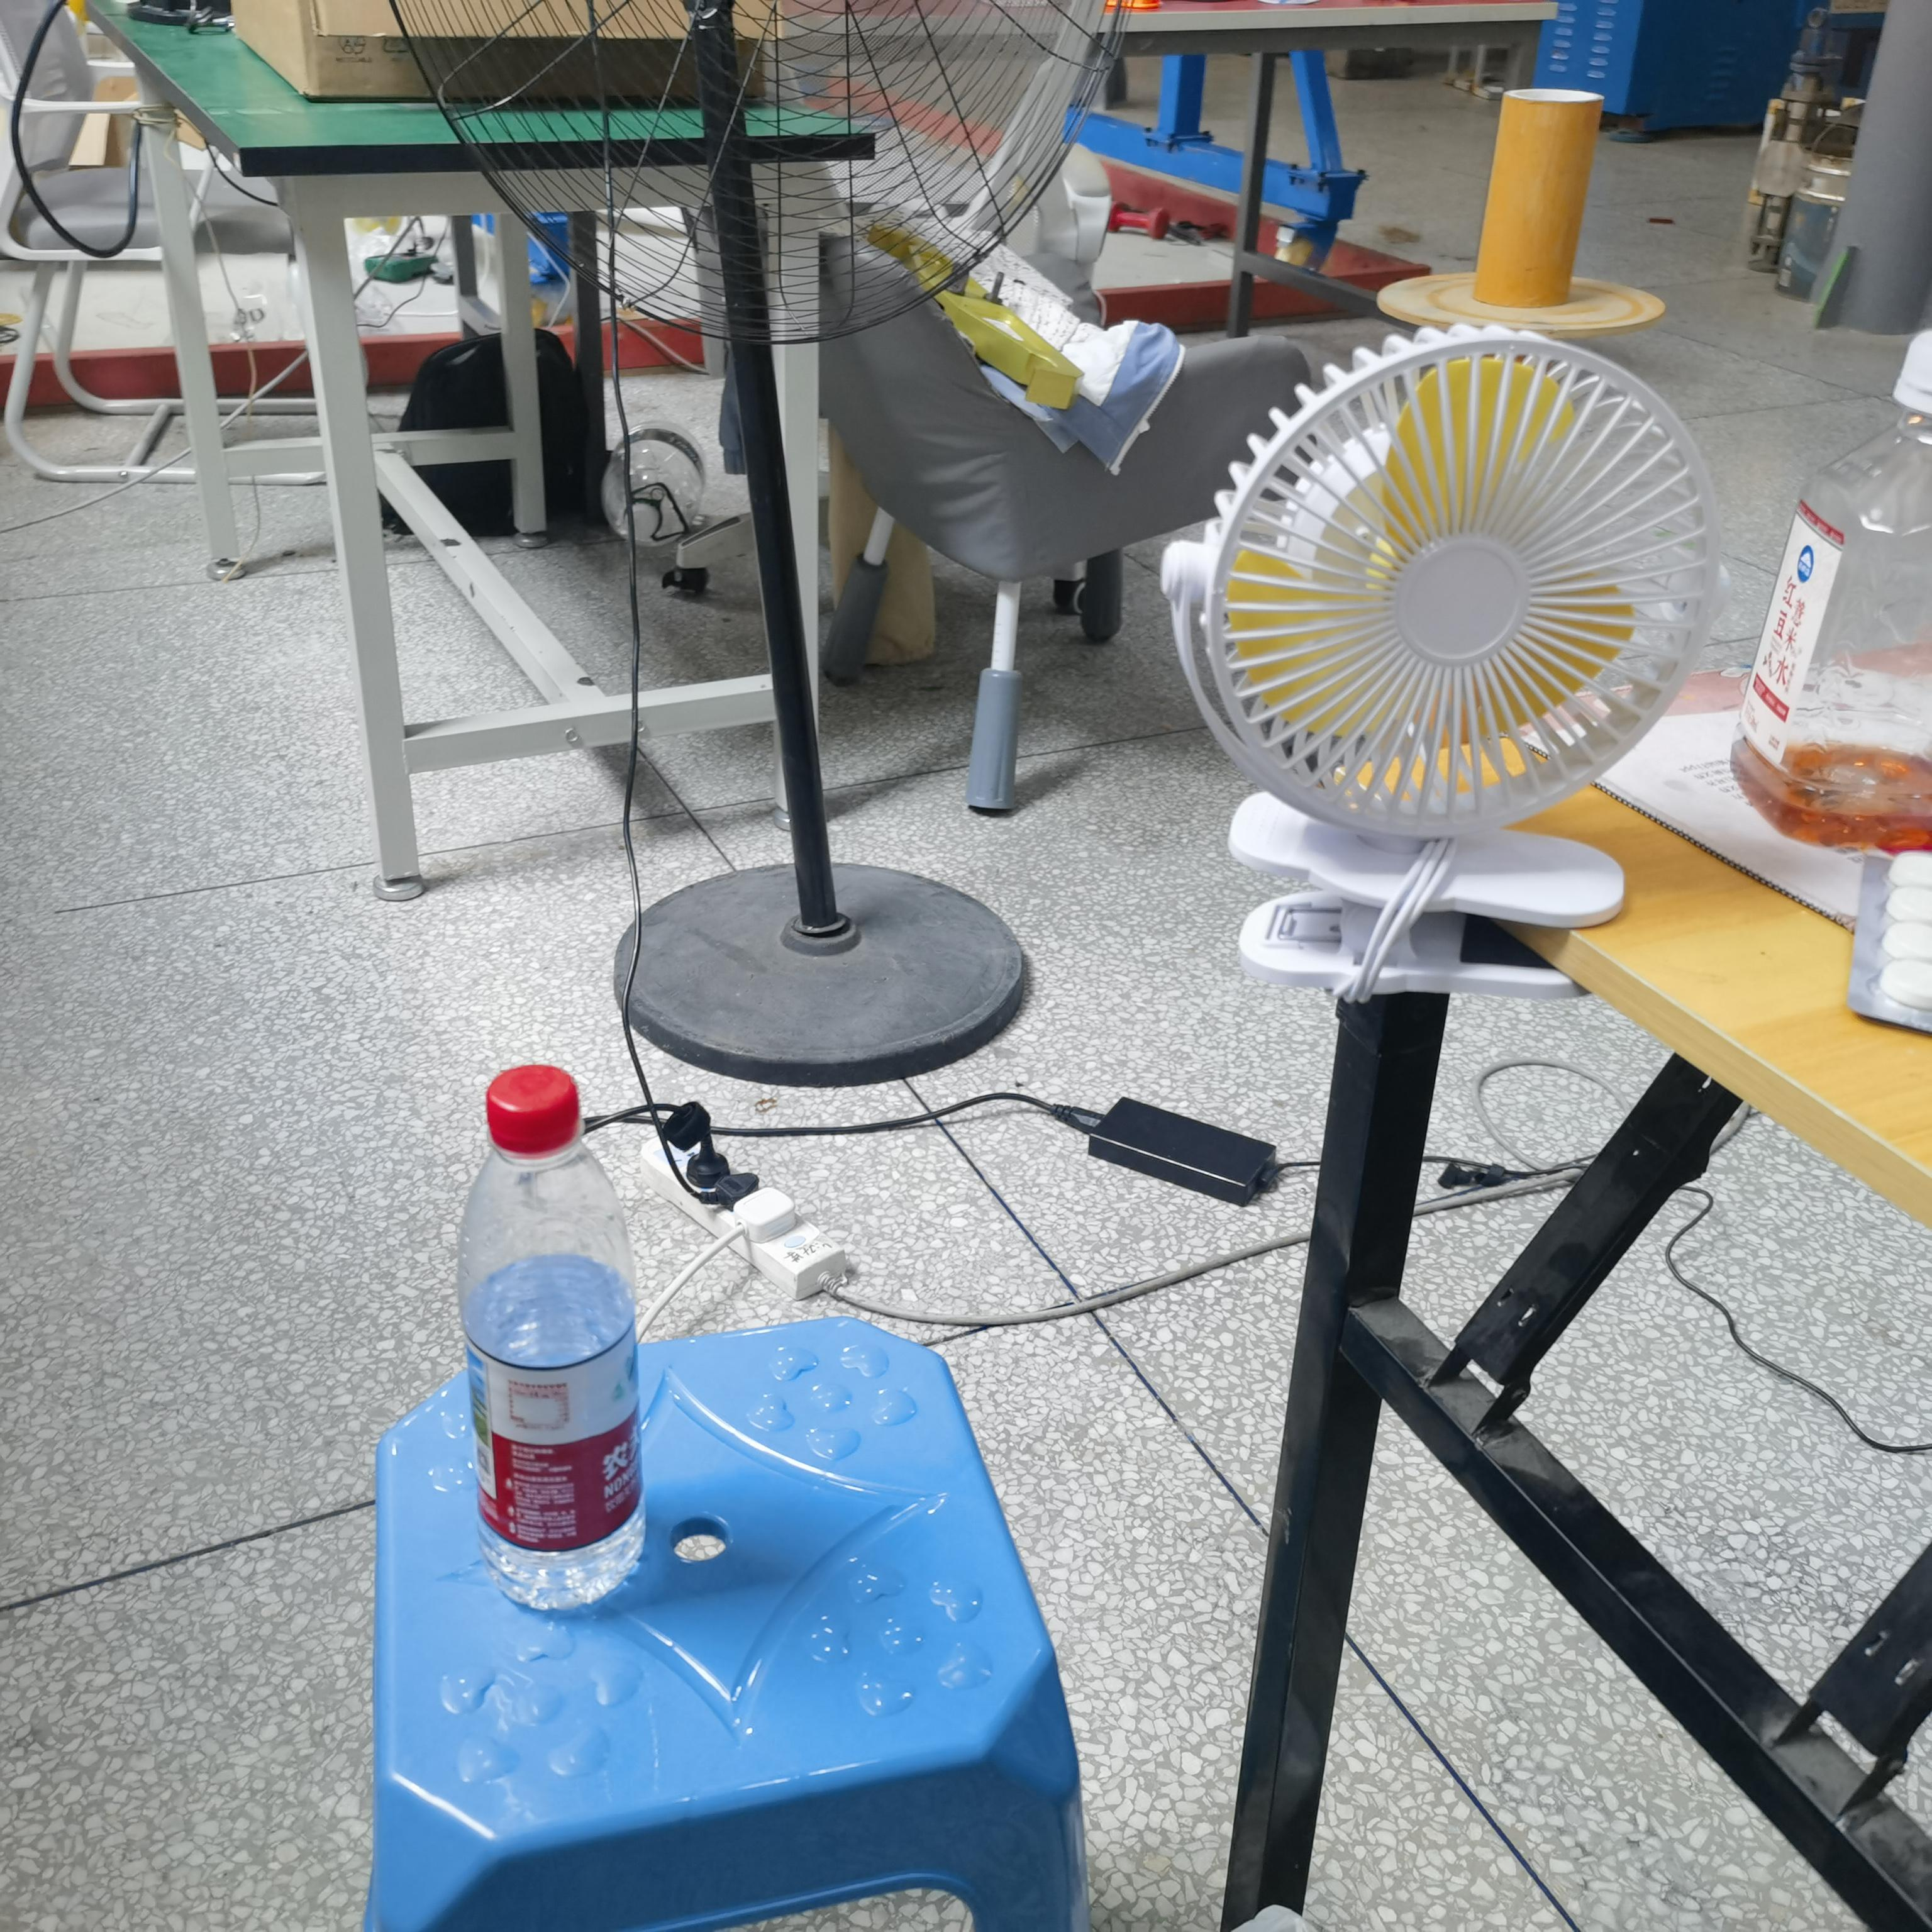bottle: (458, 1065, 646, 1610)
fan: (1162, 326, 1725, 1000)
